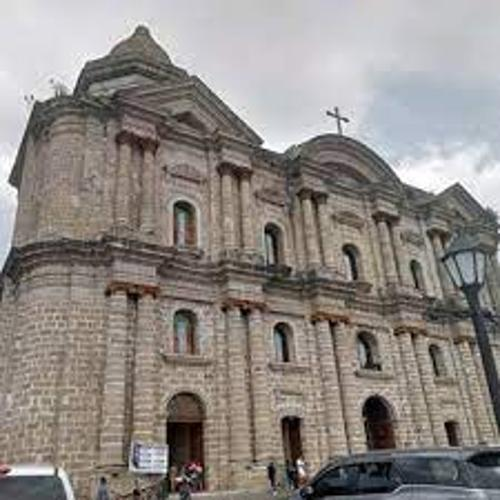Taal Basilica Church: (15, 21, 499, 475)
